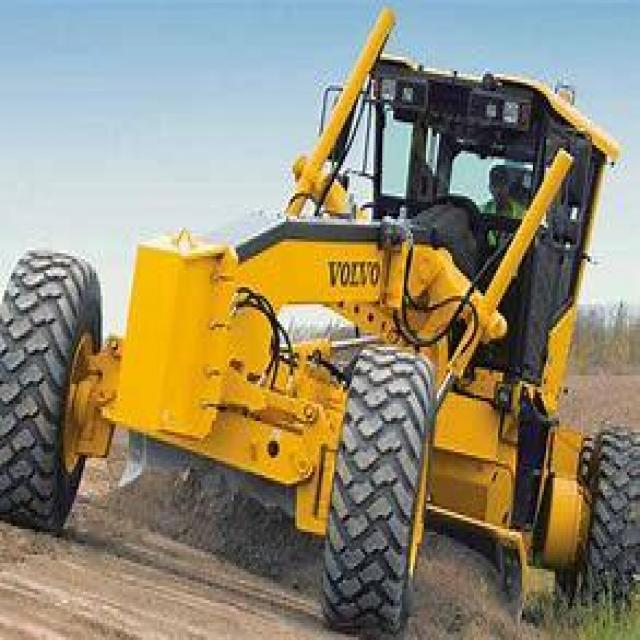Grader: (6, 14, 638, 637)
